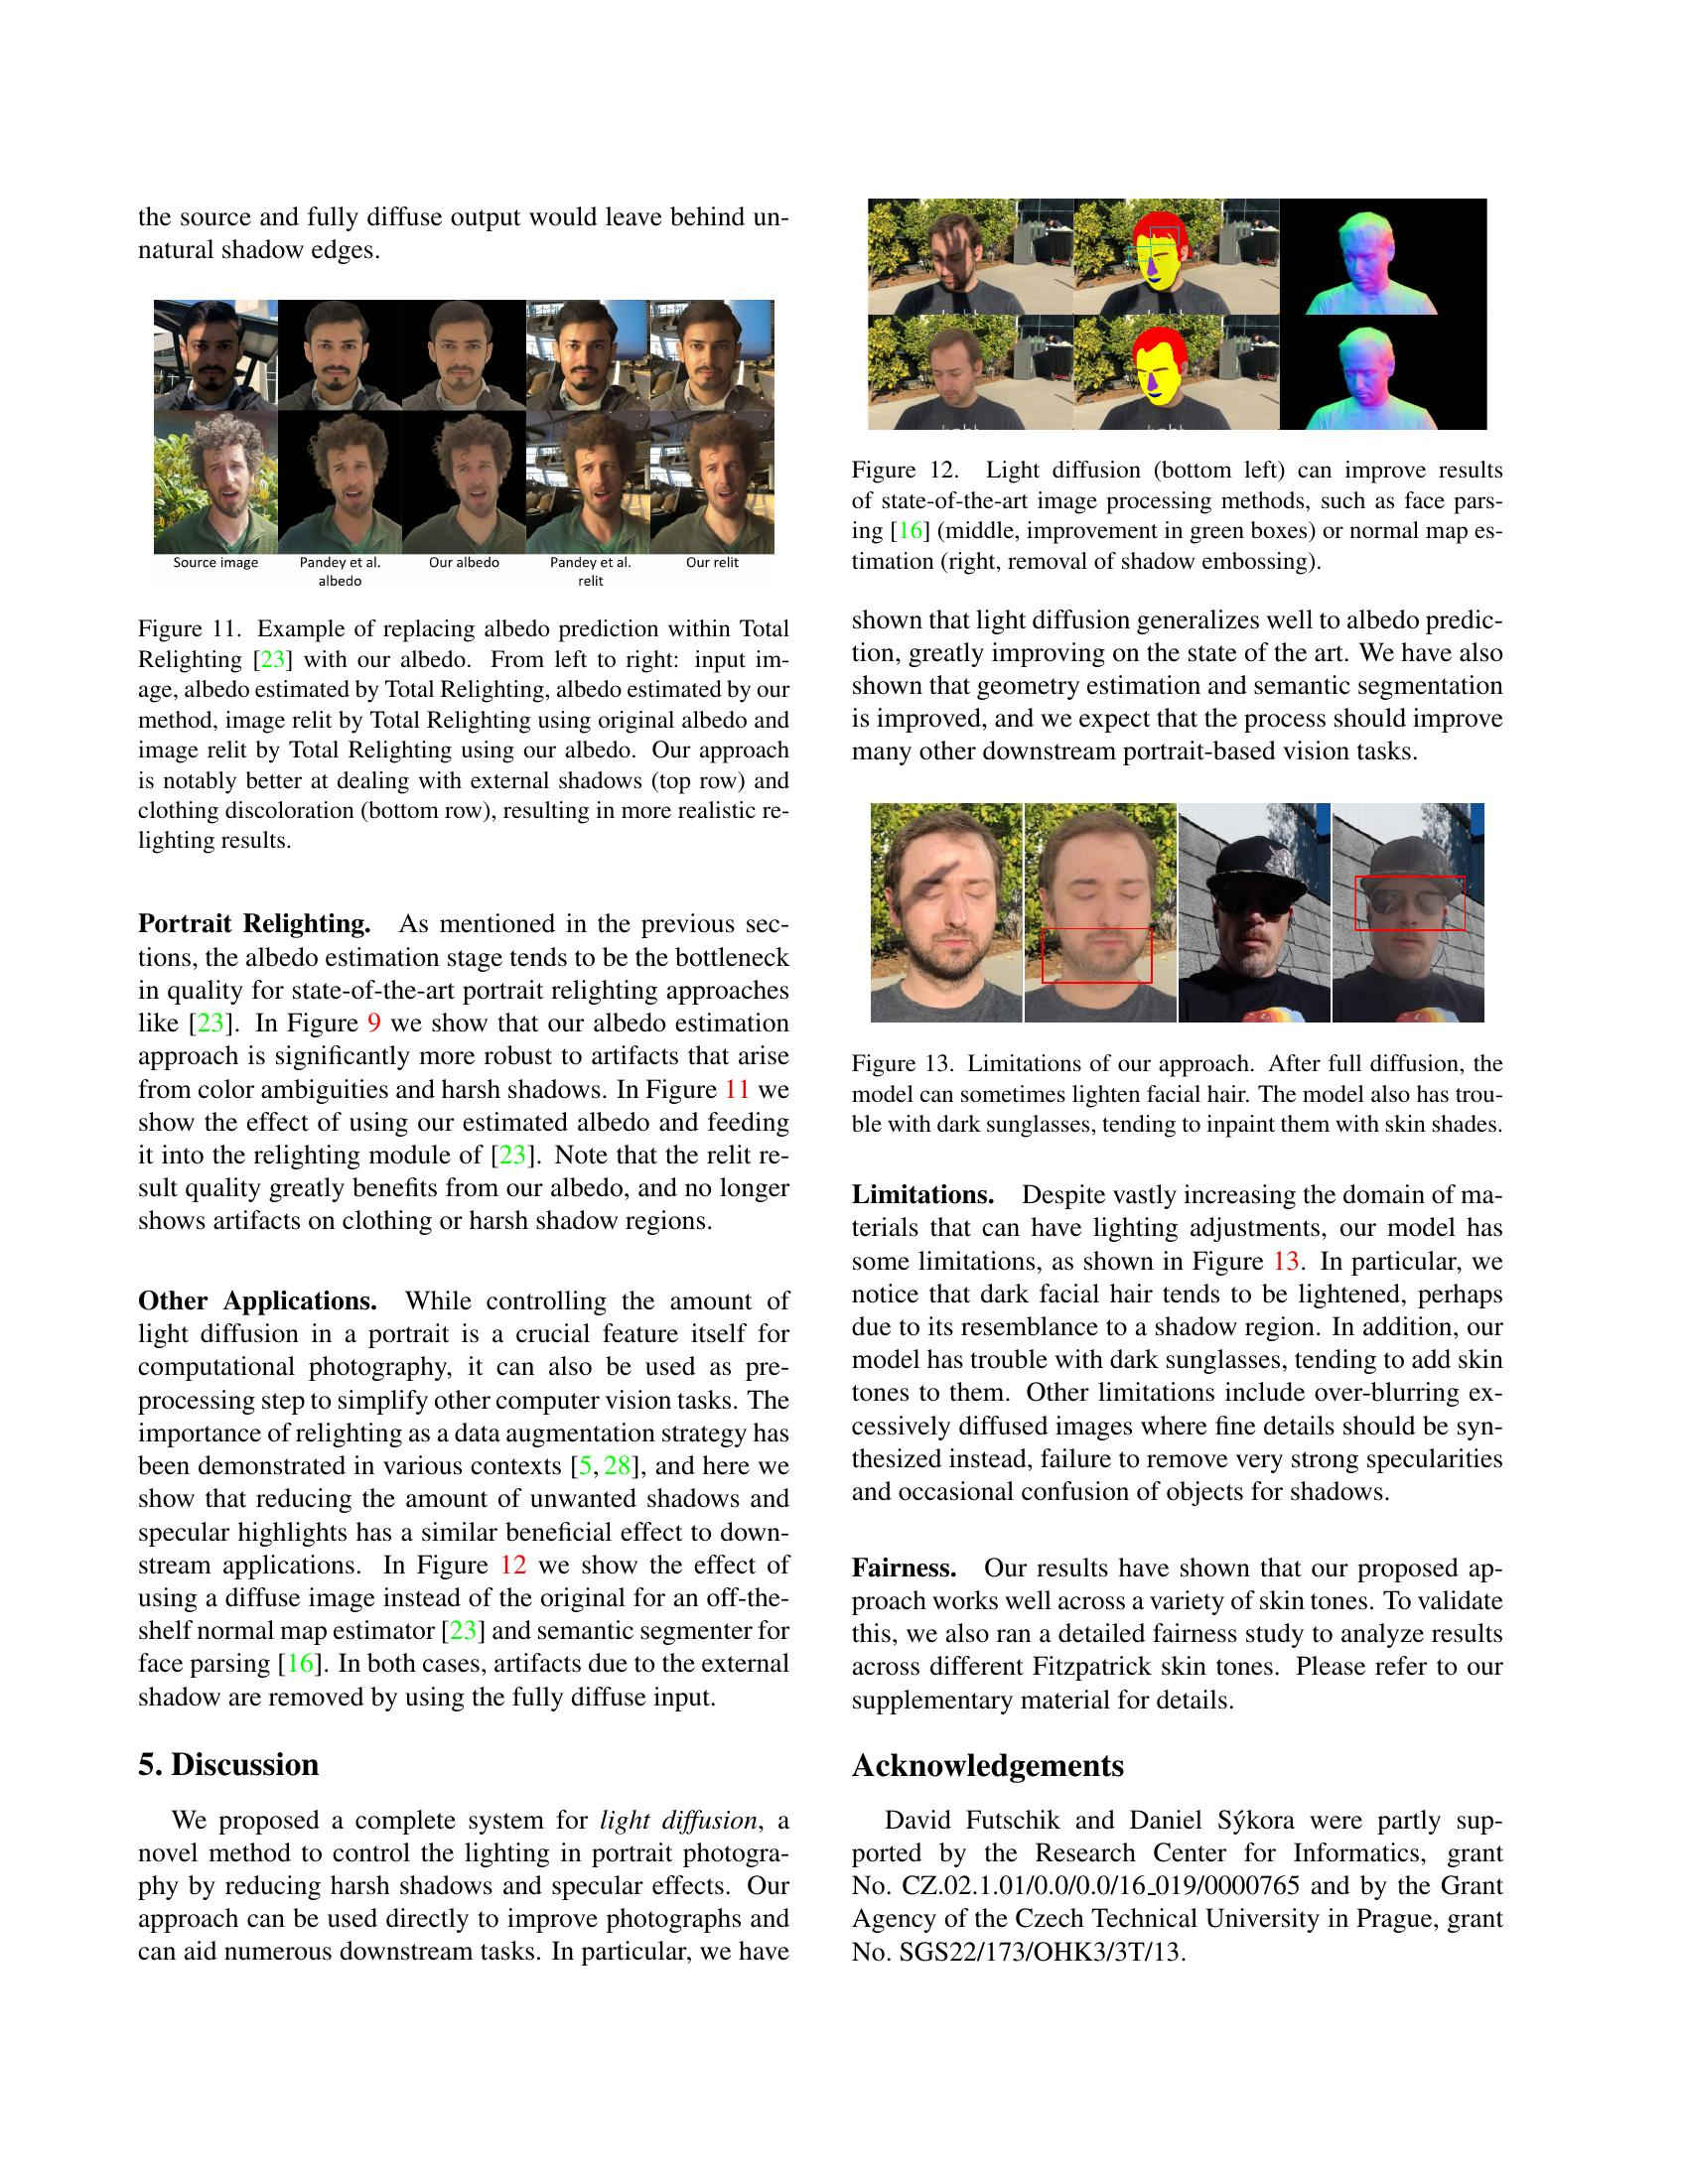figure: (131, 294, 798, 863), (844, 193, 1512, 581), (844, 798, 1512, 1143)
text: (126, 1278, 798, 1718), (842, 1548, 1512, 1971), (126, 902, 798, 1241), (842, 1174, 1512, 1512), (126, 1739, 798, 1973), (842, 601, 1512, 773), (126, 193, 798, 271)
